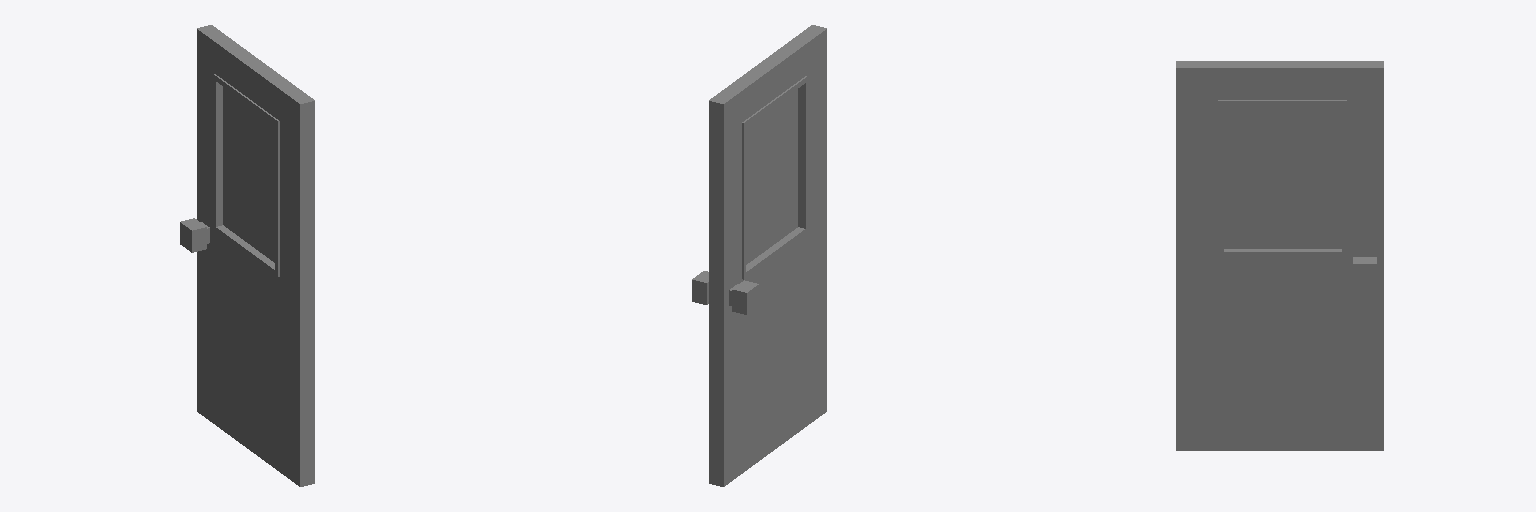
File: English_room_door.obj
3 renders of one model, left to right at view 1: azimuth 30°, elevation 25°; view 2: azimuth 150°, elevation 25°; view 3: azimuth 270°, elevation 25°, orthographic.
Parts seen in each view (by area): view 1: ??????; view 2: ??????; view 3: ??????.
Boxes of the visible parts, box(x1,y1,x2,y2) form: ??????: box(180, 25, 314, 486); ??????: box(692, 25, 826, 486); ??????: box(1176, 61, 1383, 450).
Size of the model in its own units: 0.3882 by 2.58 by 1.27.